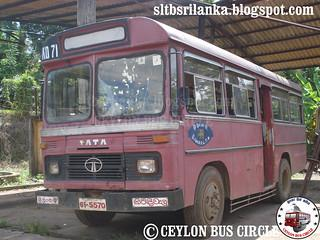bus: (34, 17, 309, 232)
